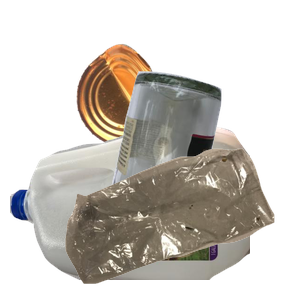glass: (109, 69, 300, 249)
metal: (74, 41, 229, 181)
plastic: (10, 120, 250, 300)
trash: (63, 145, 300, 300)
